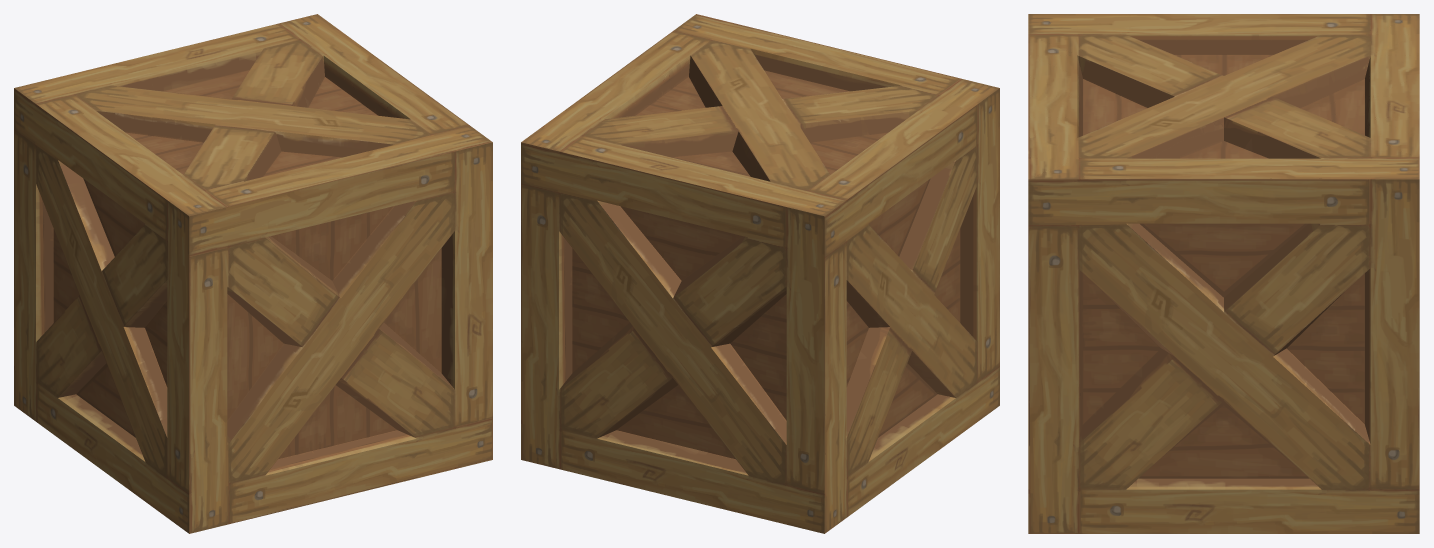
File: crate.gltf
3 renders of one model, left to right at view 1: azimuth 30°, elevation 25°; view 2: azimuth 150°, elevation 25°; view 3: azimuth 270°, elevation 25°, orthographic. The views are drawn at different scales.
Parts seen in each view (by area): view 1: Cube.001; view 2: Cube.001; view 3: Cube.001.
Part boxes in pixels (left/top/right/bottom): Cube.001: left=14, top=14, right=492, bottom=533; Cube.001: left=521, top=14, right=999, bottom=533; Cube.001: left=1028, top=14, right=1419, bottom=533.
Bounding box in the file's own units: 2 × 2 × 2.
Materials: 1 (1 with a texture image).
